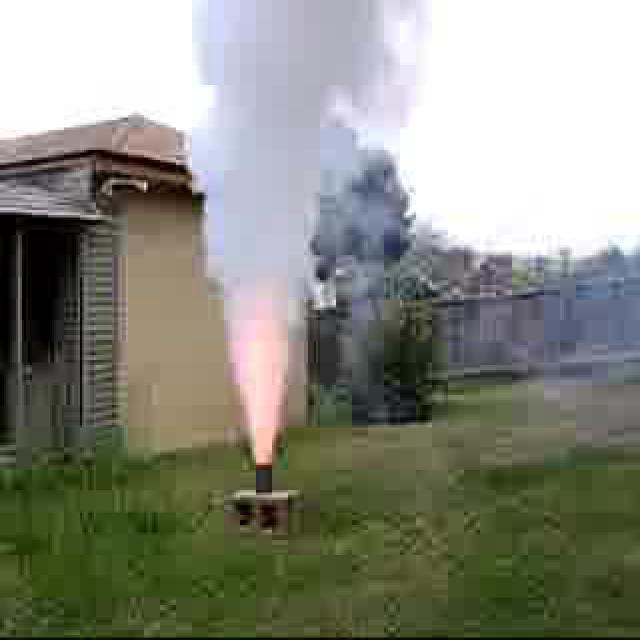Smoke: (194, 0, 330, 470)
